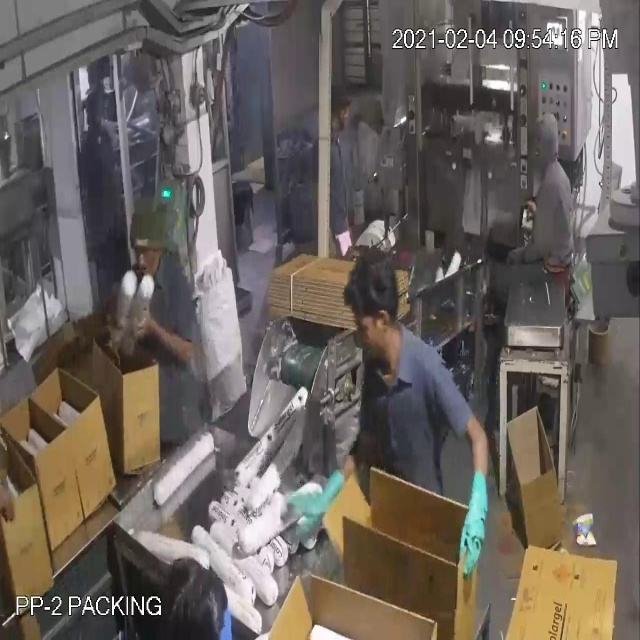Guantes: (268, 453, 348, 550), (455, 451, 496, 601)
Sin_guantes: (130, 299, 199, 397)
